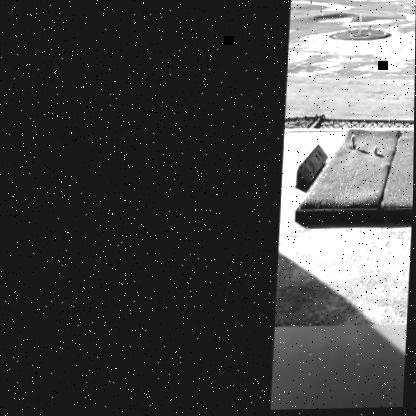ClubHead: (371, 142, 382, 157)
